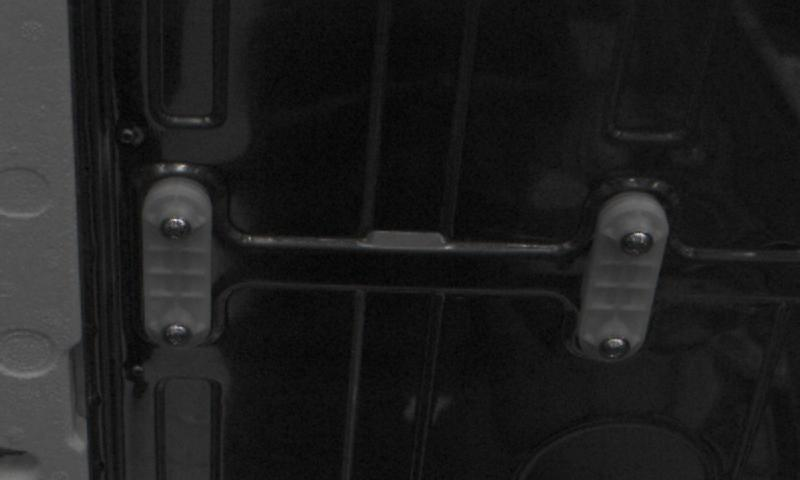vida-ok: (596, 327, 636, 368), (618, 225, 658, 265), (155, 316, 194, 354), (157, 207, 192, 246)
